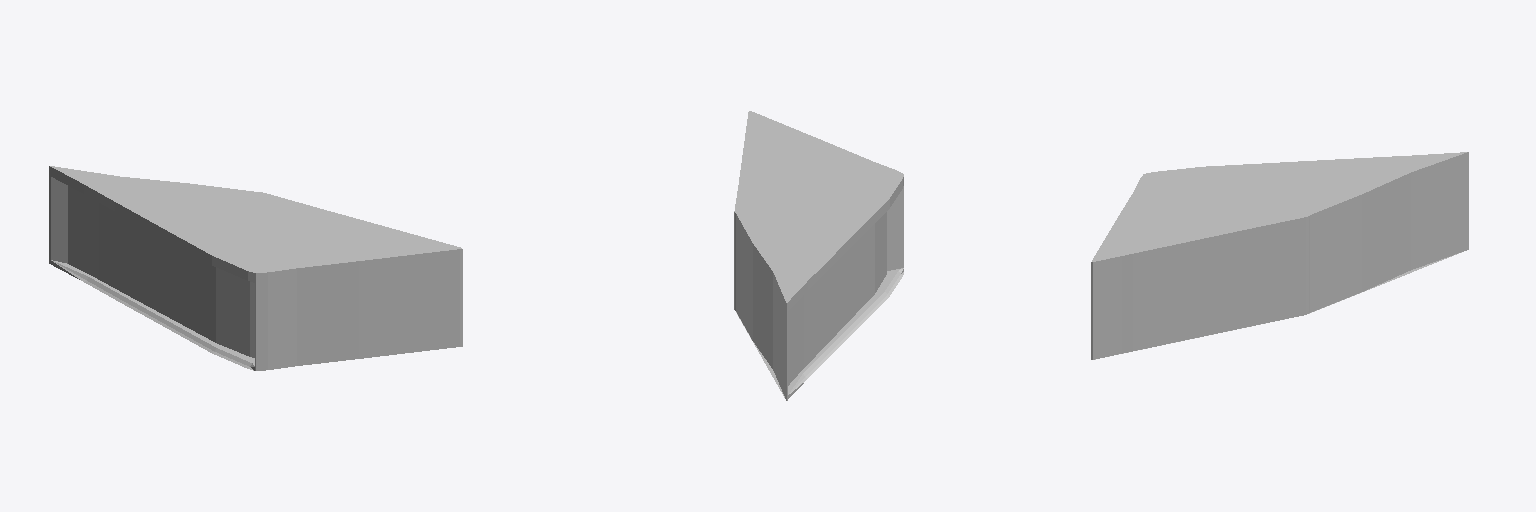
File: Under-Ramp Plastic 2.obj
3 renders of one model, left to right at view 1: azimuth 30°, elevation 25°; view 2: azimuth 150°, elevation 25°; view 3: azimuth 270°, elevation 25°, orthographic.
Parts seen in each view (by area): view 1: Cylinder; view 2: Cylinder; view 3: Cylinder.
Boxes of the visible parts, x1=… form: Cylinder: x1=49, y1=166, x2=462, y2=370; Cylinder: x1=734, y1=111, x2=903, y2=400; Cylinder: x1=1091, y1=152, x2=1468, y2=359.
Bounding box in the file's own units: 4.83 × 2 × 6.99.